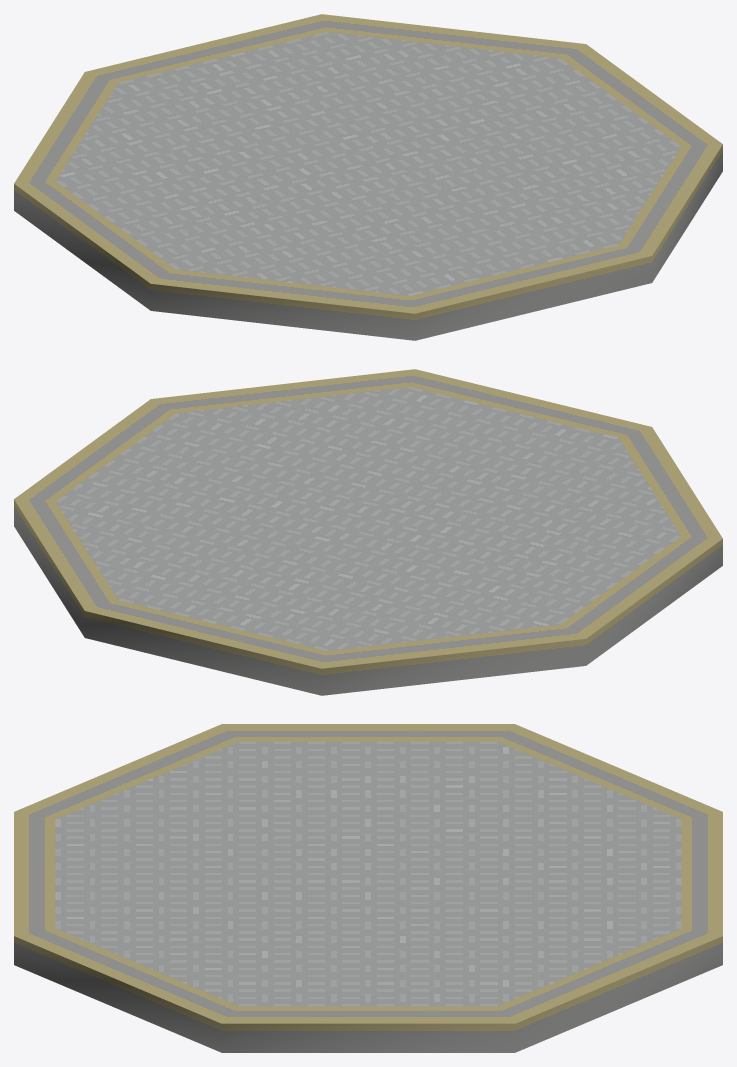
File: 055d_Parking_Turntable.glb
3 renders of one model, top to bottom at view 1: azimuth 30°, elevation 25°; view 2: azimuth 150°, elevation 25°; view 3: azimuth 270°, elevation 25°, orthographic. The views are drawn at different scales.
Visible parts, largest first — view 1: part_0; view 2: part_0; view 3: part_0.
Boxes of the visible parts, <box> form: part_0: <box>14,14,722,340</box>; part_0: <box>14,369,722,695</box>; part_0: <box>14,724,722,1052</box>.
Bounding box in the file's own units: 6.63 × 1.1 × 6.63.
1 material, 1 textured.
